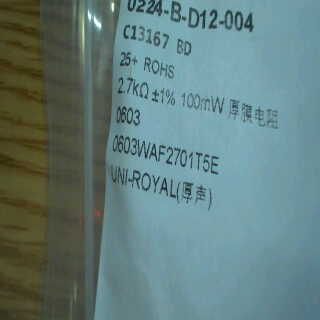2.7kR: (116, 73, 150, 105)
